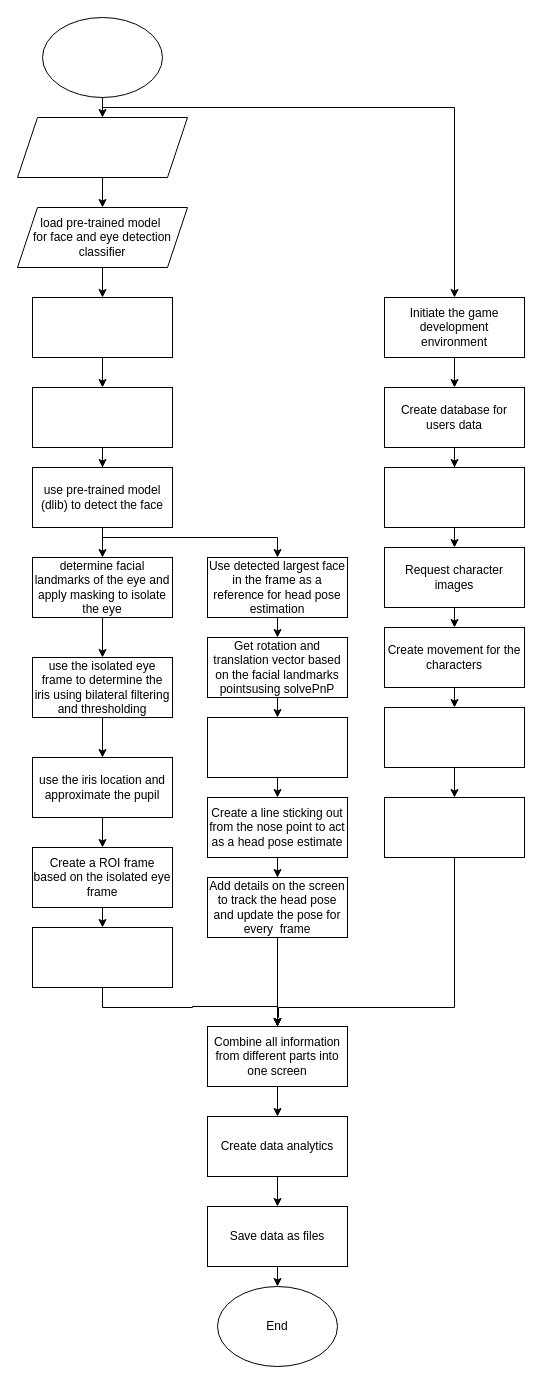
The diagram is 542 pixels wide and 1384 high, and some of its shapes have lost their labels. The centre of each missing label's shape, as x and y in pixels:
"Create menus before game execution" belongs at point (454, 497).
"Extract frames from live video" belongs at point (102, 327).
"Get pose estimate for the nose landmark point" belongs at point (277, 747).
"Grayscale the frames" belongs at point (102, 417).
"Initialize capture device (laptop camera)" belongs at point (102, 147).
"Initiate timers when game starts" belongs at point (454, 737).
"Record character movement data" belongs at point (454, 827).
"Record the pupil movement data" belongs at point (102, 957).
"Start" belongs at point (102, 57).
